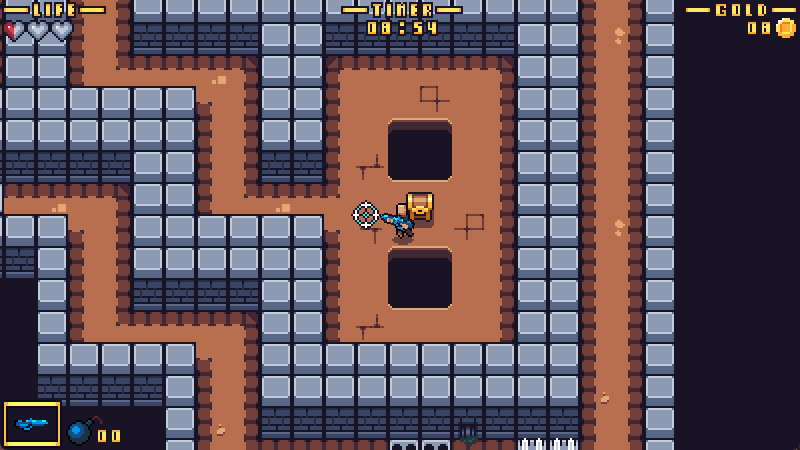aim: (352, 201, 380, 229)
health-5: (1, 20, 75, 42)
player: (380, 204, 416, 239)
treasury_close: (405, 189, 436, 224)
